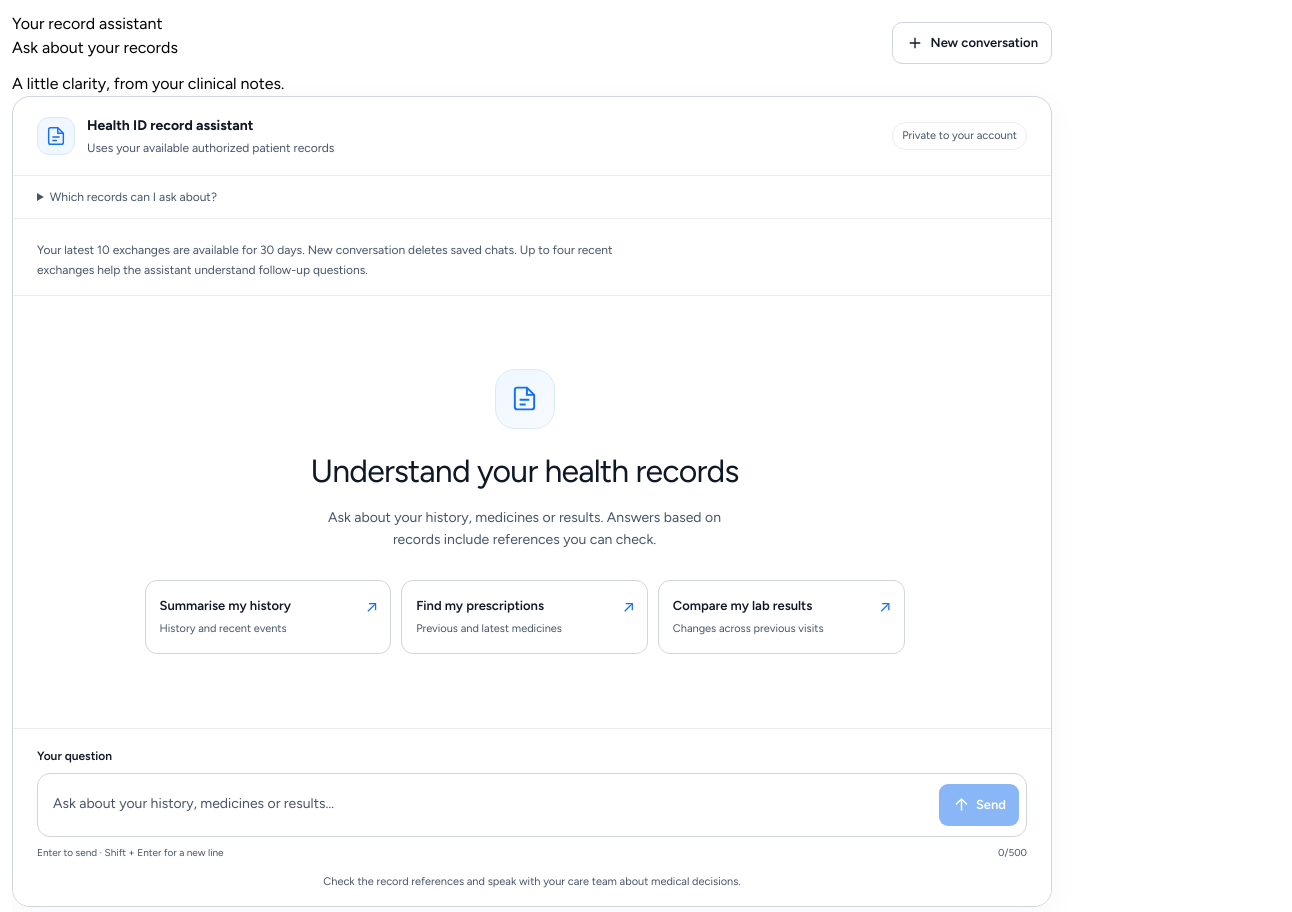
Test case: new conversation cancels old work and ignores late replies without unlocking a new send
This screenshot has width=1292, height=912.
Type "Old question" into the text box labelled "Your question". click: (487, 805)
box: [45,781,929,829]
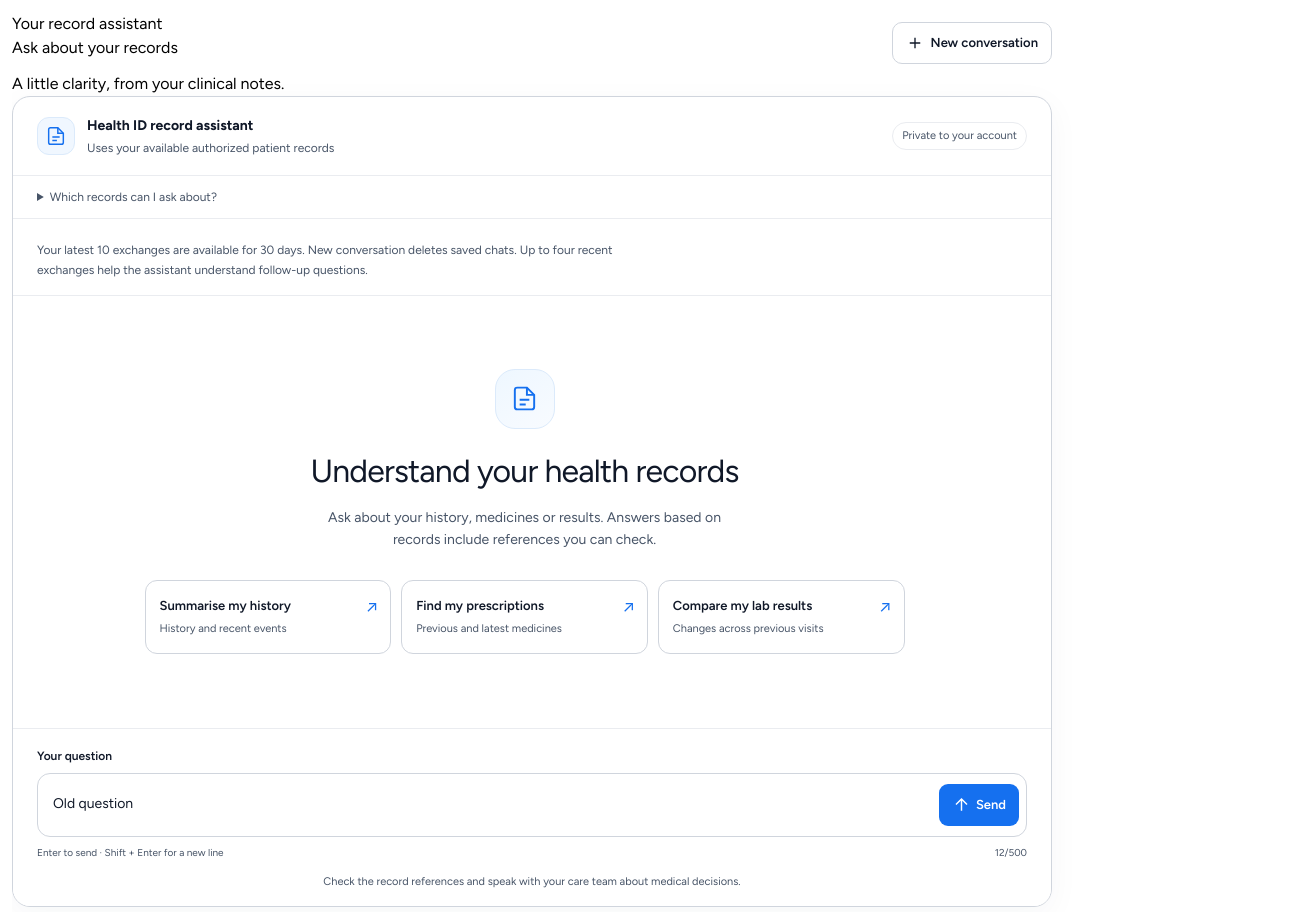
Click the button with aria-label "Send question". click: click(979, 805)
box: [939,784,1019,826]
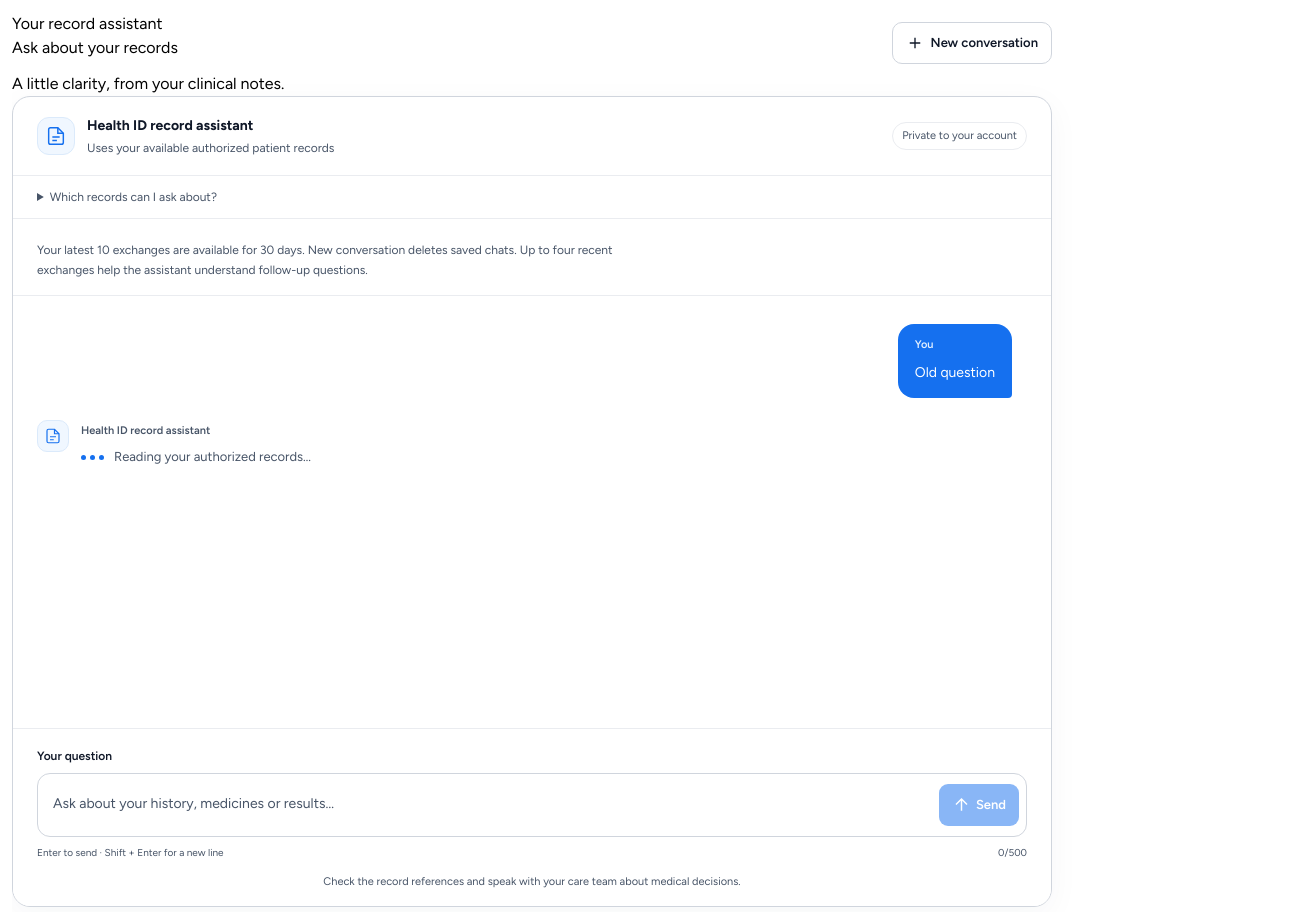
Click the button "New conversation". click: click(972, 43)
box: [892,22,1052,64]
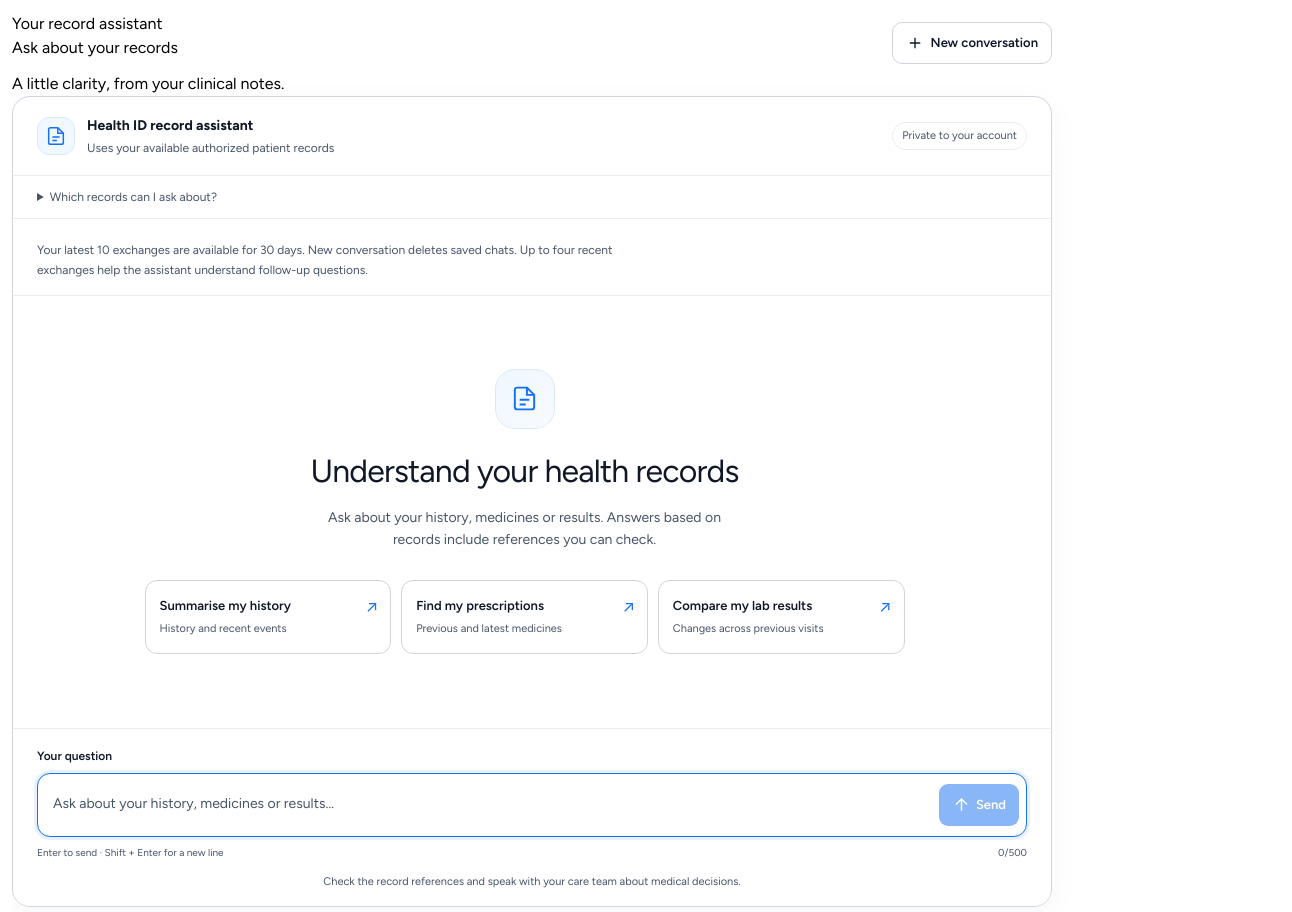
expect the text box labelled "Your question" is empty: met
expect the text "Old question" is gone: met
Type "New question" into the text box labelled "Your question". click: (487, 805)
box: [45,781,929,829]
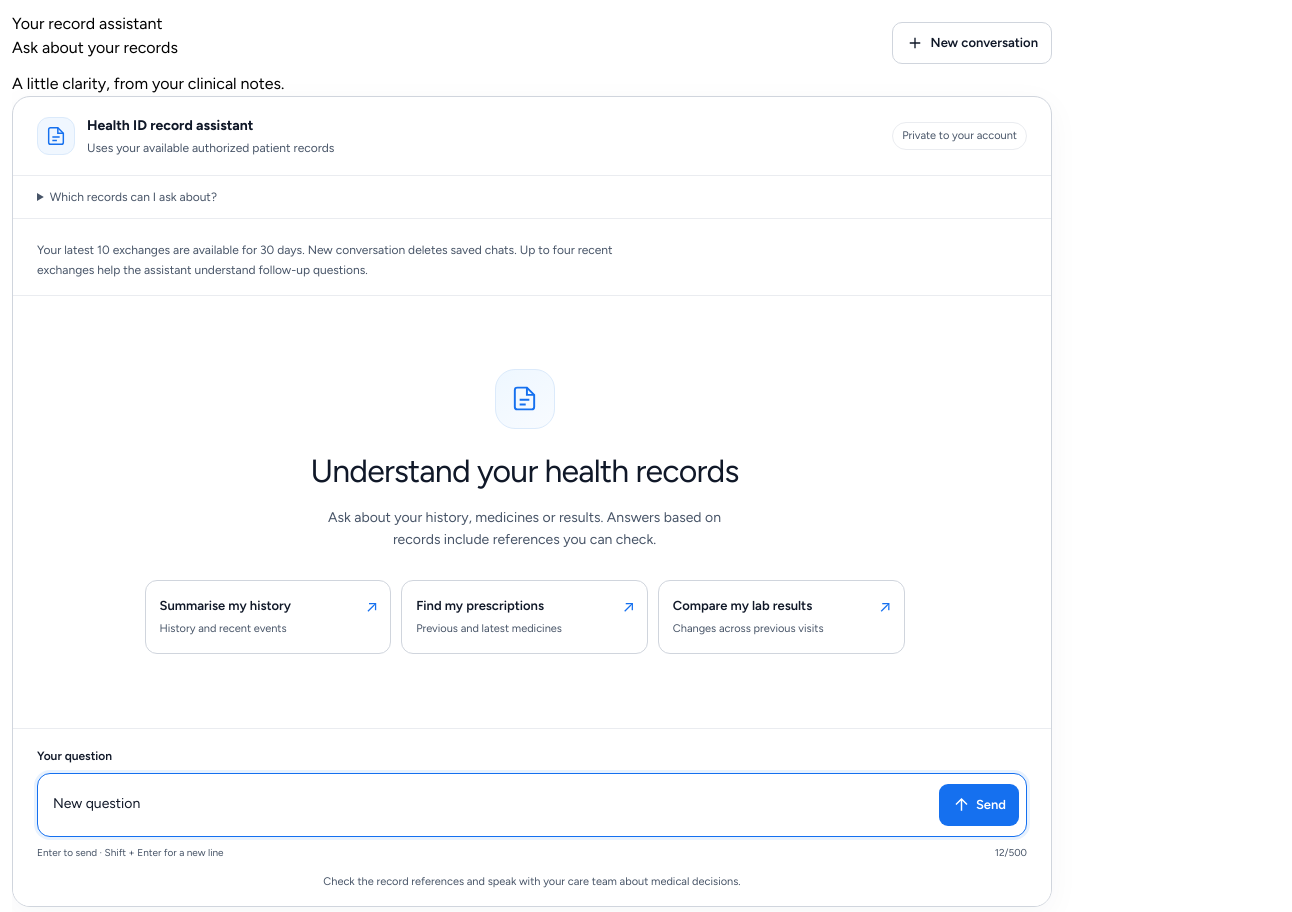
Click the button with aria-label "Send question". click: click(979, 805)
box: [939,784,1019,826]
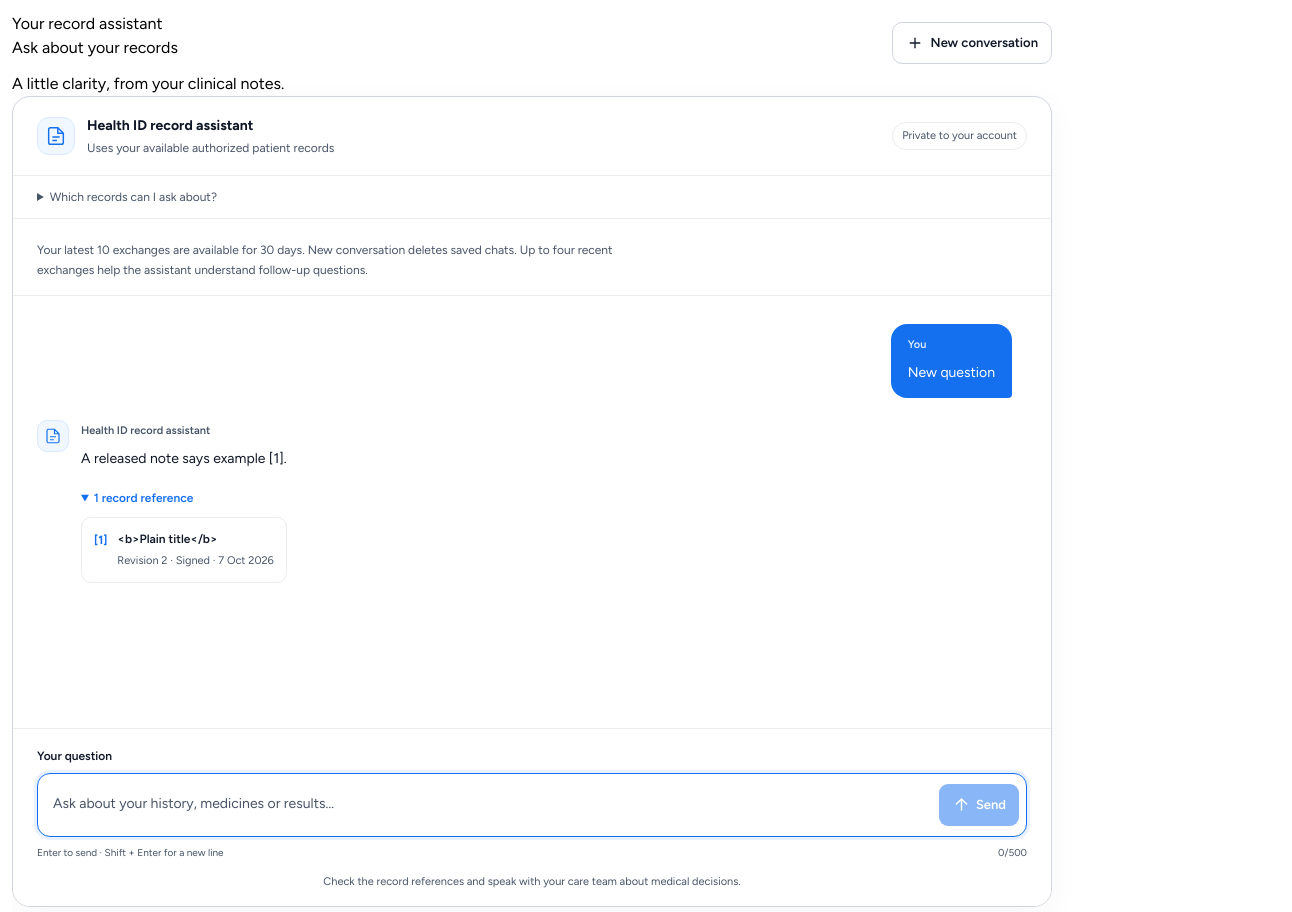
expect the button with aria-label "Send question" is disabled: met, box [939,784,1019,826]
expect the text "A released note says example [1]." is shown: met, box [81,447,287,471]
expect the element named "Record chat" shows "New question": met, box [908,364,995,381]
